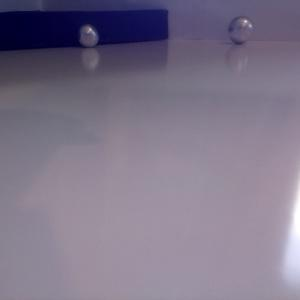zone: (1, 8, 168, 49)
